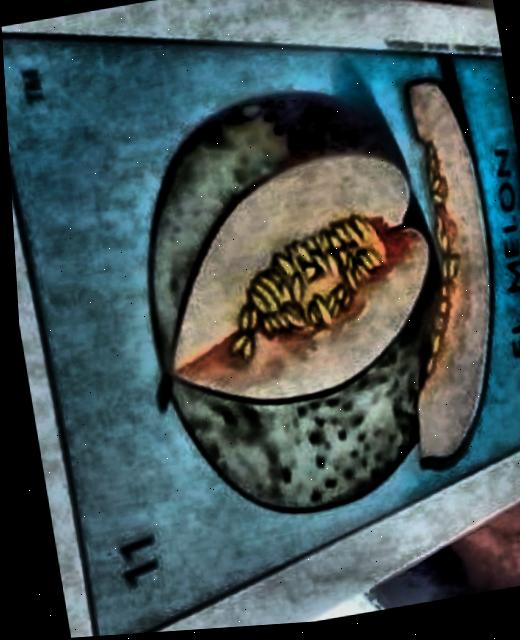El Melon: (2, 34, 520, 637)
